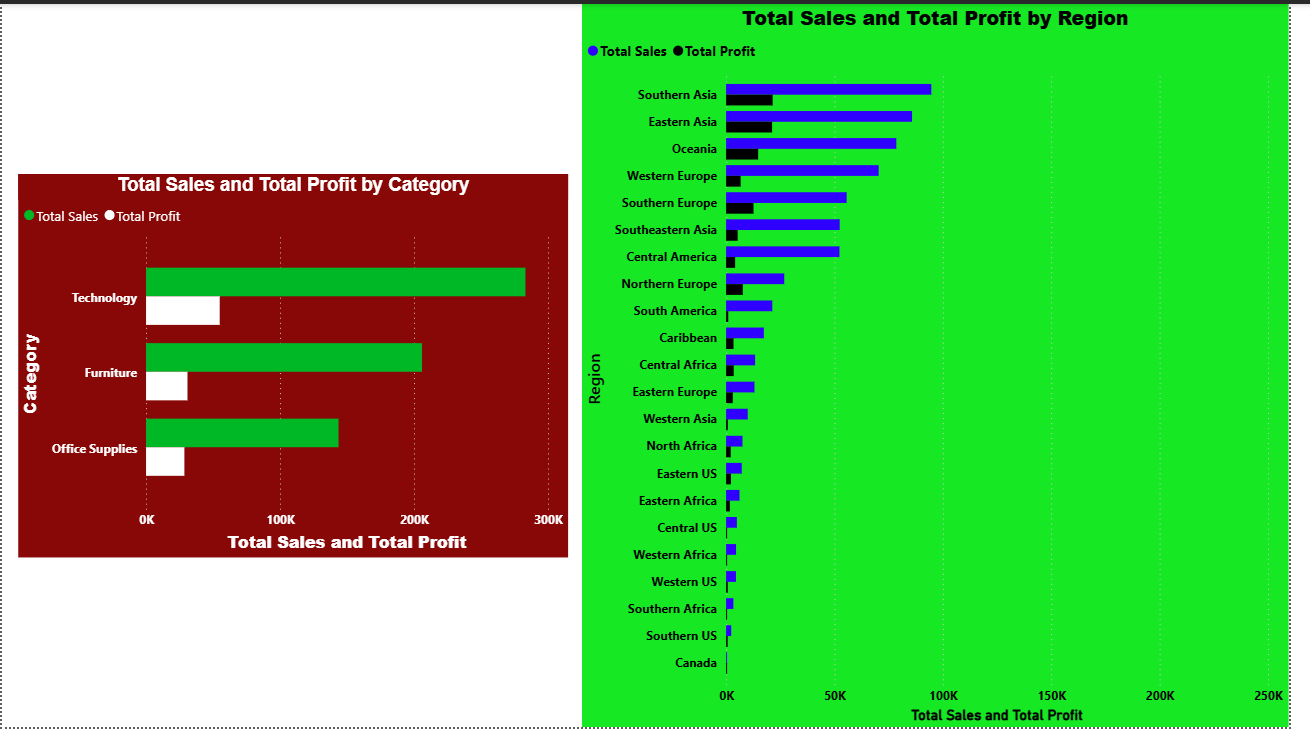

The dashboard page shown, as its layout file describes it:
{"tool":"powerbi","page":{"name":"Page 3","canvas":[1280,720],"ordinal":2},"visuals":[{"type":"clusteredBarChart","fields":{"Category":["Fact_sale.Category"],"Y":["Fact_sale.Total Sales","Fact_sale.Total Profit"]},"box":[16.2,169.2,547.3,381.9],"z":0},{"type":"clusteredBarChart","fields":{"Category":["Dim_Geography.Region"],"Y":["Fact_sale.Total Sales","Fact_sale.Total Profit"]},"box":[577.2,0,702.8,720.3],"z":1000}]}

Visuals, with their boxes in screenshot pixels (x1, y1, x2, y2), scaled from the page's 1280x720 canvas onto the 1310x736 screenshot:
clusteredBarChart - Fact_sale.Category x Fact_sale.Total Sales: 17,173,577,563
clusteredBarChart - Dim_Geography.Region x Fact_sale.Total Sales: 591,0,1309,735
